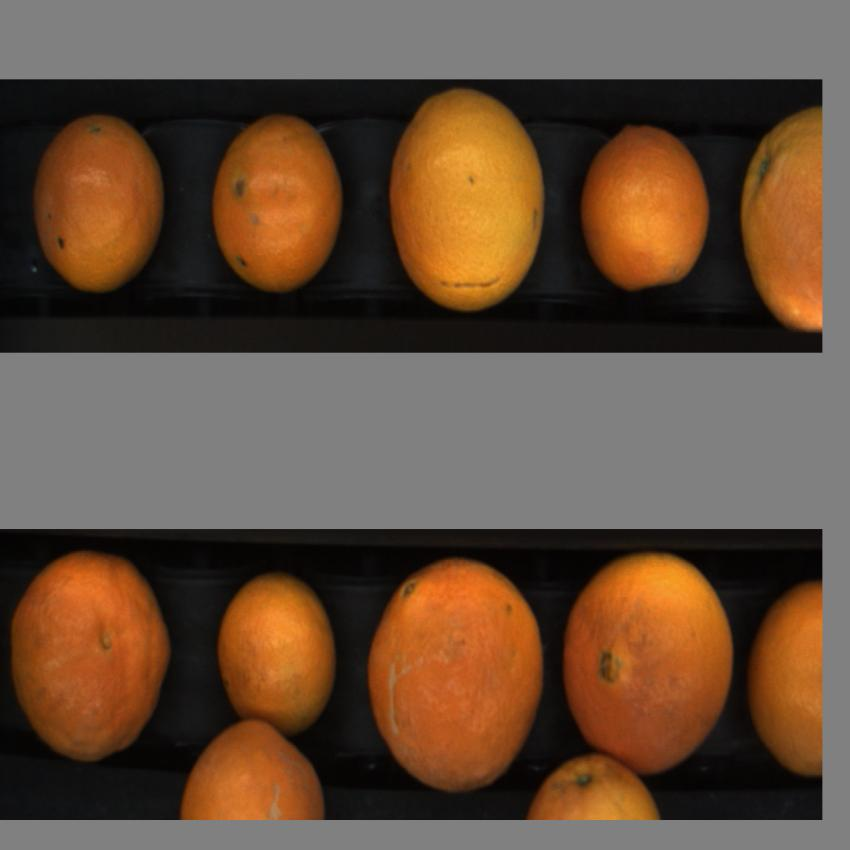Buen estado: (365, 556, 549, 798), (387, 85, 554, 318), (562, 547, 732, 772), (574, 120, 719, 294), (212, 564, 341, 751), (211, 114, 344, 292), (740, 103, 822, 333), (180, 713, 328, 824), (744, 582, 824, 782), (526, 750, 666, 825)
Mal estado: (8, 546, 174, 767), (30, 105, 165, 292)
